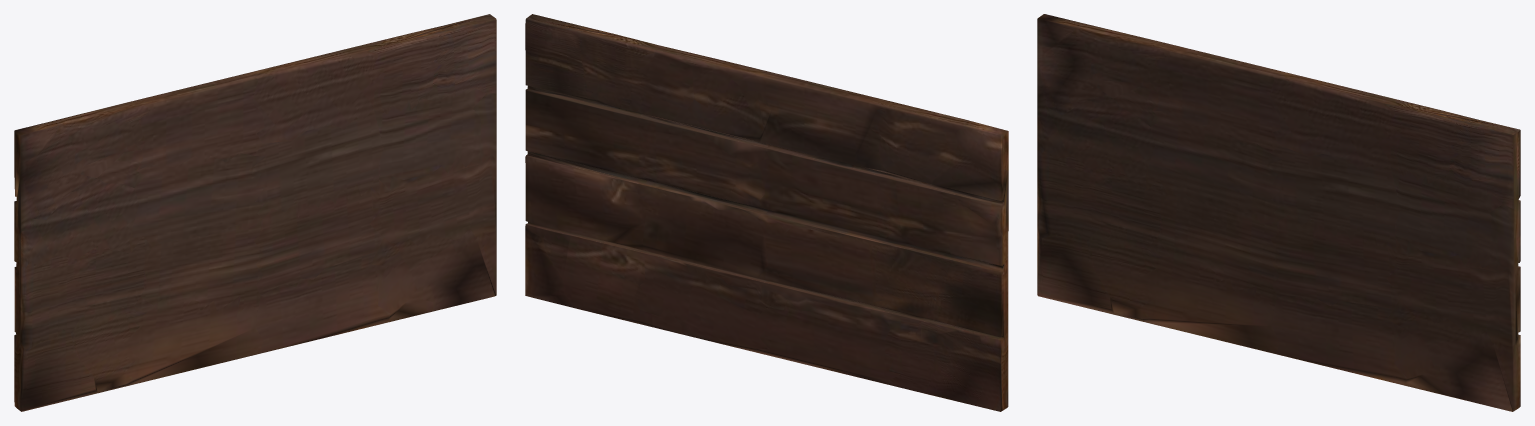
Rendered from 单块木墙板.glb.
The picture shows the model from 3 angles, left to right: view 1: azimuth 30°, elevation 25°; view 2: azimuth 150°, elevation 25°; view 3: azimuth 330°, elevation 25°; orthographic projection.
Visible parts, largest first — view 1: tripo_node_df3e55a3-f2b6-40ff-a154-7654259d69a8; view 2: tripo_node_df3e55a3-f2b6-40ff-a154-7654259d69a8; view 3: tripo_node_df3e55a3-f2b6-40ff-a154-7654259d69a8.
Boxes of the visible parts, bbox=[...] form: tripo_node_df3e55a3-f2b6-40ff-a154-7654259d69a8: bbox=[14, 14, 496, 411]; tripo_node_df3e55a3-f2b6-40ff-a154-7654259d69a8: bbox=[525, 14, 1008, 411]; tripo_node_df3e55a3-f2b6-40ff-a154-7654259d69a8: bbox=[1037, 14, 1520, 411].
Size of the model in its own units: 0.9998 by 0.5568 by 0.0268.
Materials: 1 (1 with a texture image).
